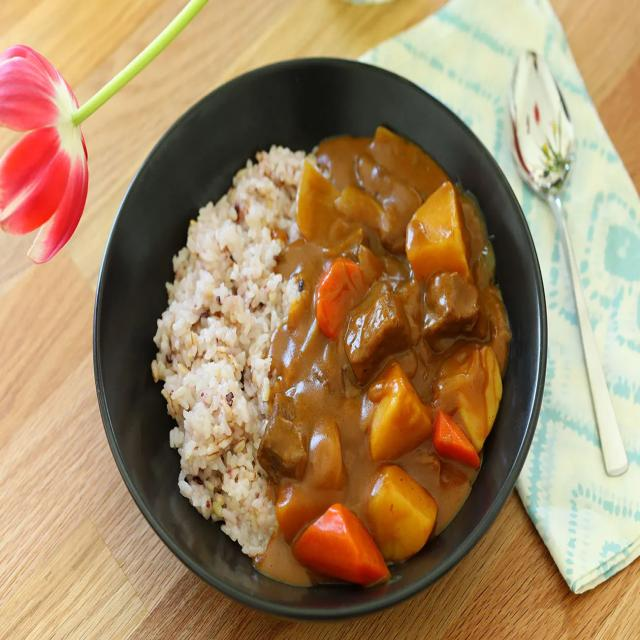Carbohydrate: (156, 146, 330, 581)
Curry: (97, 58, 548, 618)
Protein: (344, 268, 478, 381)
Vegetable: (283, 347, 499, 577)
